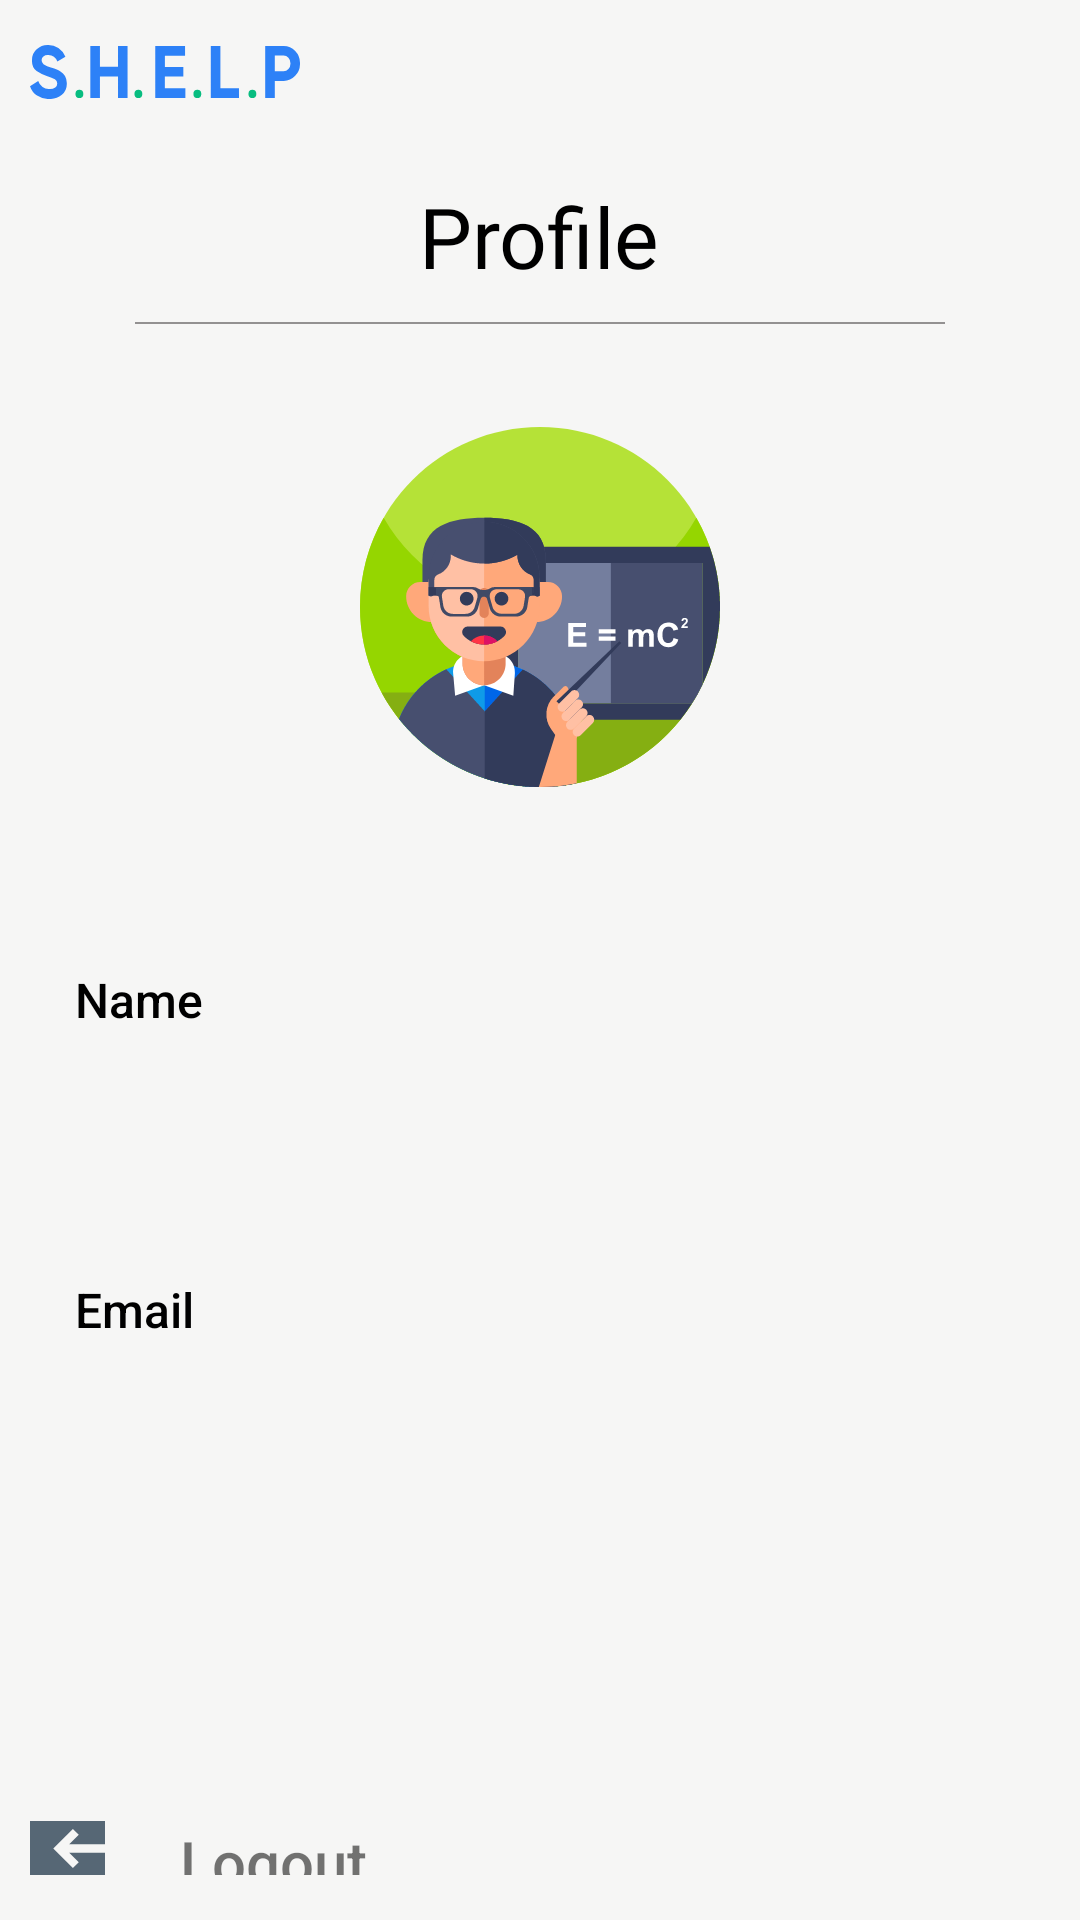

Where to tap for icons on this 1080px x 1920px app screen, as point (x, y):
teacher: point (540, 607)
